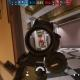Character: (40, 40, 44, 47)
